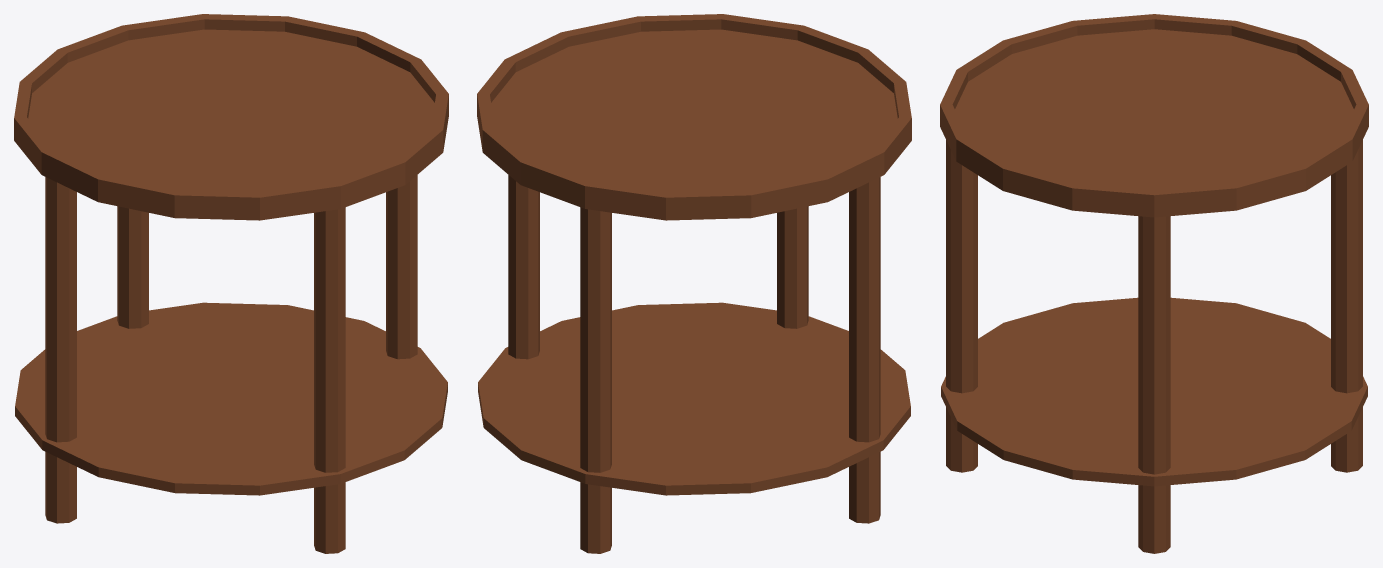
Rendered from tablecorner02.gltf.
3 renders of one model, left to right at view 1: azimuth 30°, elevation 25°; view 2: azimuth 150°, elevation 25°; view 3: azimuth 270°, elevation 25°, orthographic. The views are drawn at different scales.
Visible parts, largest first — view 1: Cylinder; view 2: Cylinder; view 3: Cylinder.
Part boxes in pixels (x1,y1,x2,y2): Cylinder: (14,14,448,553); Cylinder: (477,14,911,553); Cylinder: (940,14,1368,553).
Bounding box in the file's own units: 0.6688 × 0.6217 × 0.6688.
Materials: 1 (1 with a texture image).
